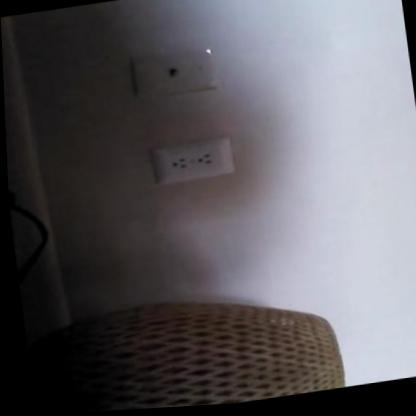OUTLET: (151, 136, 235, 186)
